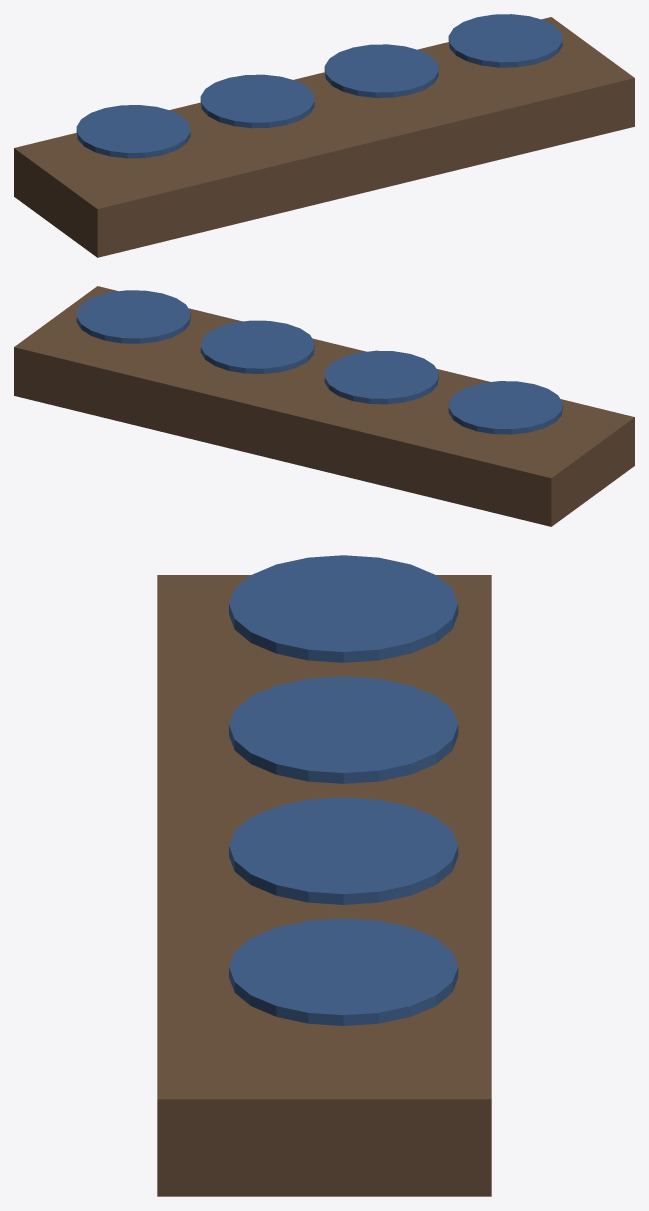
The model's file is Trophy_DisplayStand.fbx.
The picture shows the model from 3 angles, top to bottom: view 1: azimuth 30°, elevation 25°; view 2: azimuth 150°, elevation 25°; view 3: azimuth 270°, elevation 25°; orthographic projection. The views are drawn at different scales.
Parts seen in each view (by area): view 1: DisplayPlinth, VelvetPads; view 2: DisplayPlinth, VelvetPads; view 3: DisplayPlinth, VelvetPads.
Boxes of the visible parts, bbox=[...] form: DisplayPlinth: bbox=[14, 17, 634, 257]; VelvetPads: bbox=[76, 14, 562, 158]; DisplayPlinth: bbox=[14, 286, 634, 526]; VelvetPads: bbox=[76, 290, 562, 434]; DisplayPlinth: bbox=[157, 575, 491, 1196]; VelvetPads: bbox=[229, 555, 458, 1025].
Bounding box in the file's own units: 0.52 × 0.069 × 0.14.
